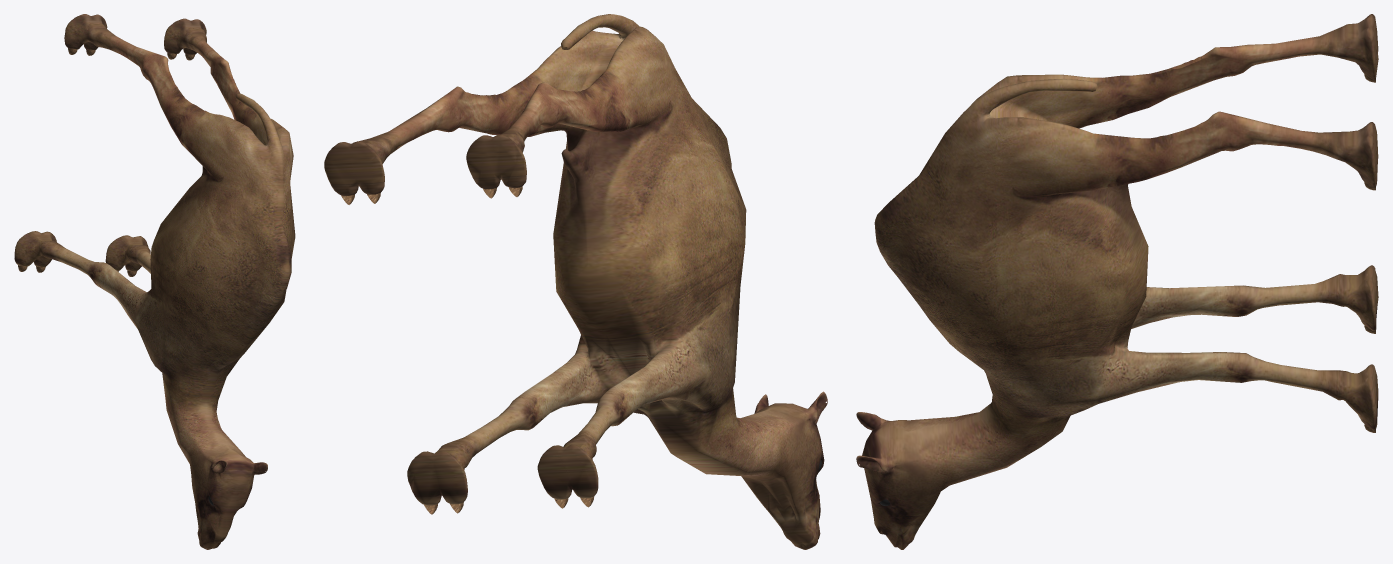
File: camel.obj
3 views of the same model, side by side, from view 1: azimuth 30°, elevation 25°; view 2: azimuth 150°, elevation 25°; view 3: azimuth 270°, elevation 25° (orthographic). The views are drawn at different scales.
Visible parts, largest first — view 1: DROMEDAR; view 2: DROMEDAR; view 3: DROMEDAR.
Part boxes in pixels (x1,y1,x2,y2): DROMEDAR: (14, 14, 295, 549); DROMEDAR: (324, 14, 827, 549); DROMEDAR: (856, 14, 1378, 549).
Bounding box in the file's own units: 3402 × 6821 × 5764.
3 materials, 2 textured.
